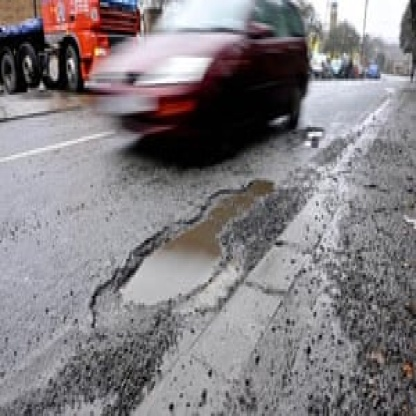pothole: (84, 171, 288, 334)
